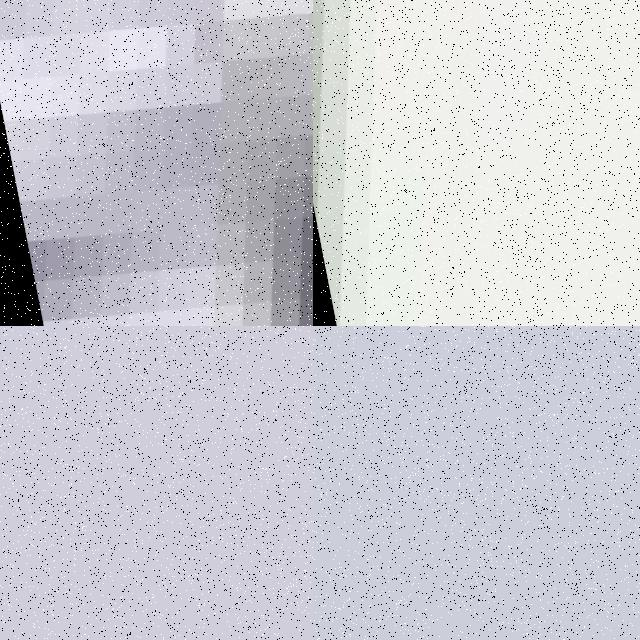drone: (313, 0, 640, 326), (0, 0, 313, 326)
